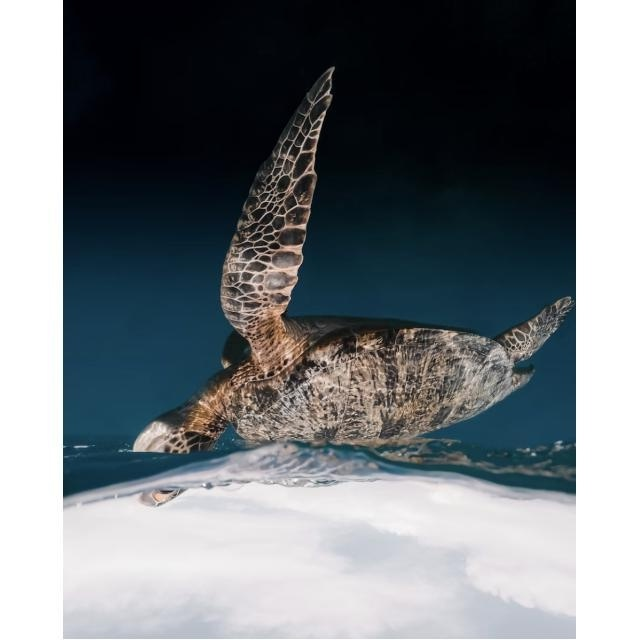turtle: (127, 59, 571, 510)
